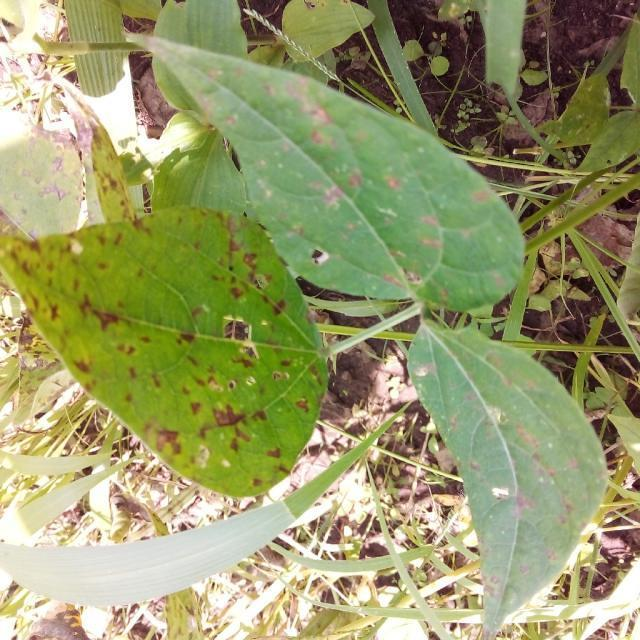mozaik: (49, 210, 409, 572)
